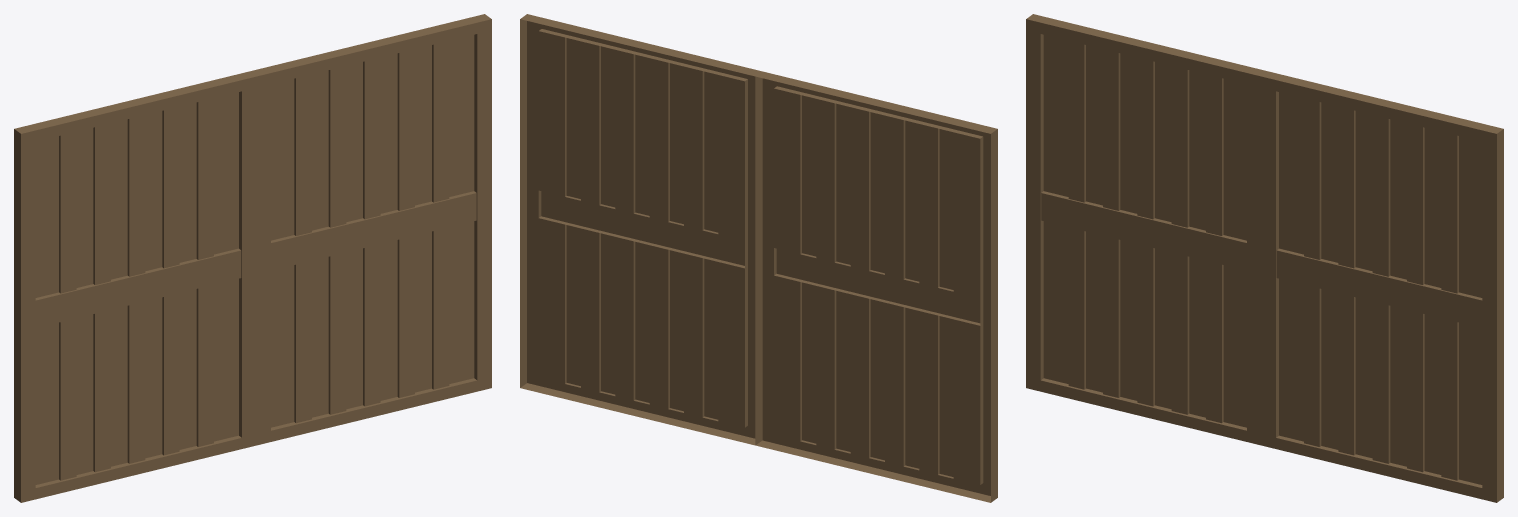
The model's file is SM_Env_Door_28.fbx.
3 renders of one model, left to right at view 1: azimuth 30°, elevation 25°; view 2: azimuth 150°, elevation 25°; view 3: azimuth 330°, elevation 25°, orthographic.
Visible parts, largest first — view 1: SM_Env_Door_28; view 2: SM_Env_Door_28; view 3: SM_Env_Door_28.
Boxes of the visible parts, x1=… form: SM_Env_Door_28: x1=14, y1=14, x2=491, y2=502; SM_Env_Door_28: x1=520, y1=14, x2=997, y2=502; SM_Env_Door_28: x1=1026, y1=14, x2=1503, y2=502.
Bounding box in the file's own units: 262 × 196 × 6.76.
Materials: 1 (1 with a texture image).
